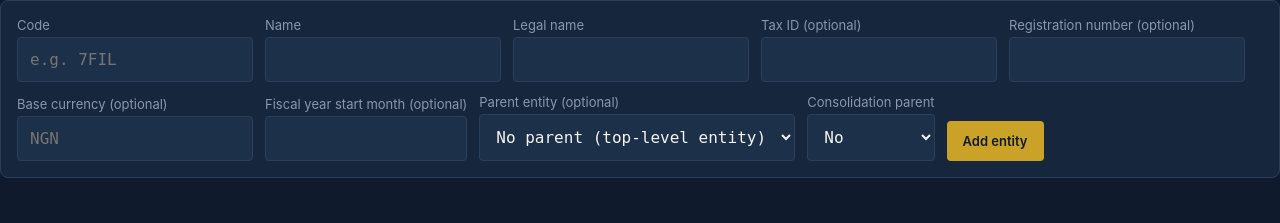
Test: CreateEntityForm › shows the action-returned error message and does not reset the fields on failure
Type "7FIL" into the field labelled "Code" at coordinates (135, 60), box [17,37,253,82]
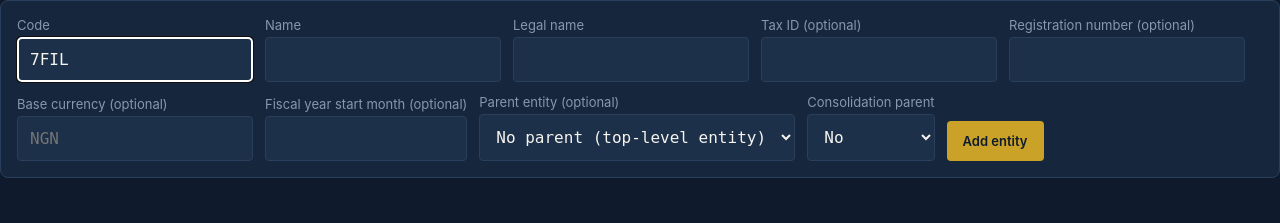
Type "7F Industries Ltd" into the field labelled "Name" at coordinates (383, 60), box [265,37,501,82]
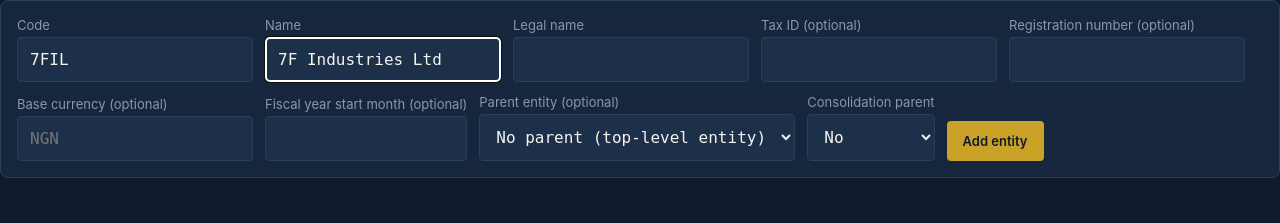
Type "7F Industries Limited" into the field labelled "Legal name" at coordinates (631, 60), box [513,37,749,82]
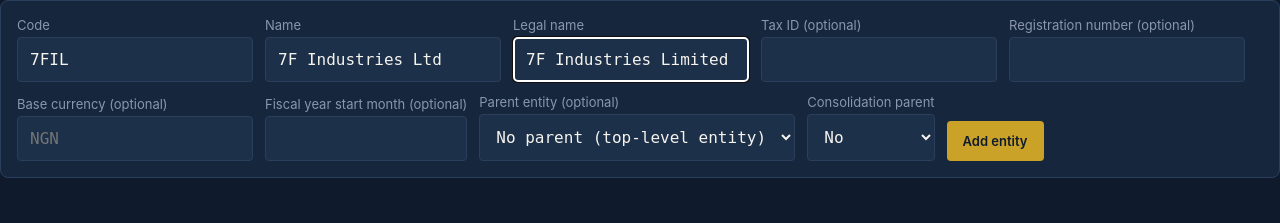
Click the button "Add entity" at coordinates (995, 141), box [947,121,1044,161]
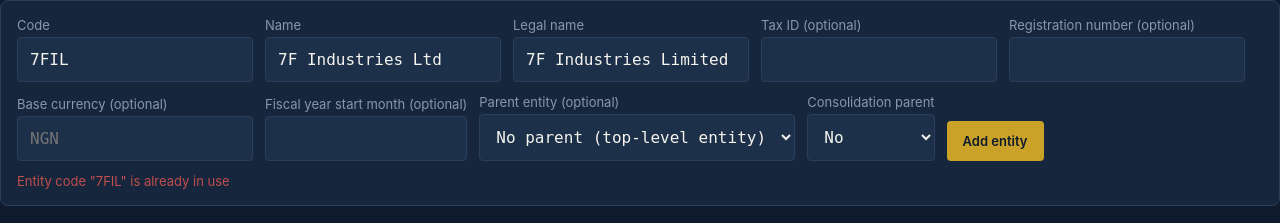
expect the text "Entity code \"7FIL\" is already in use" is shown: met, box [17,173,230,189]
